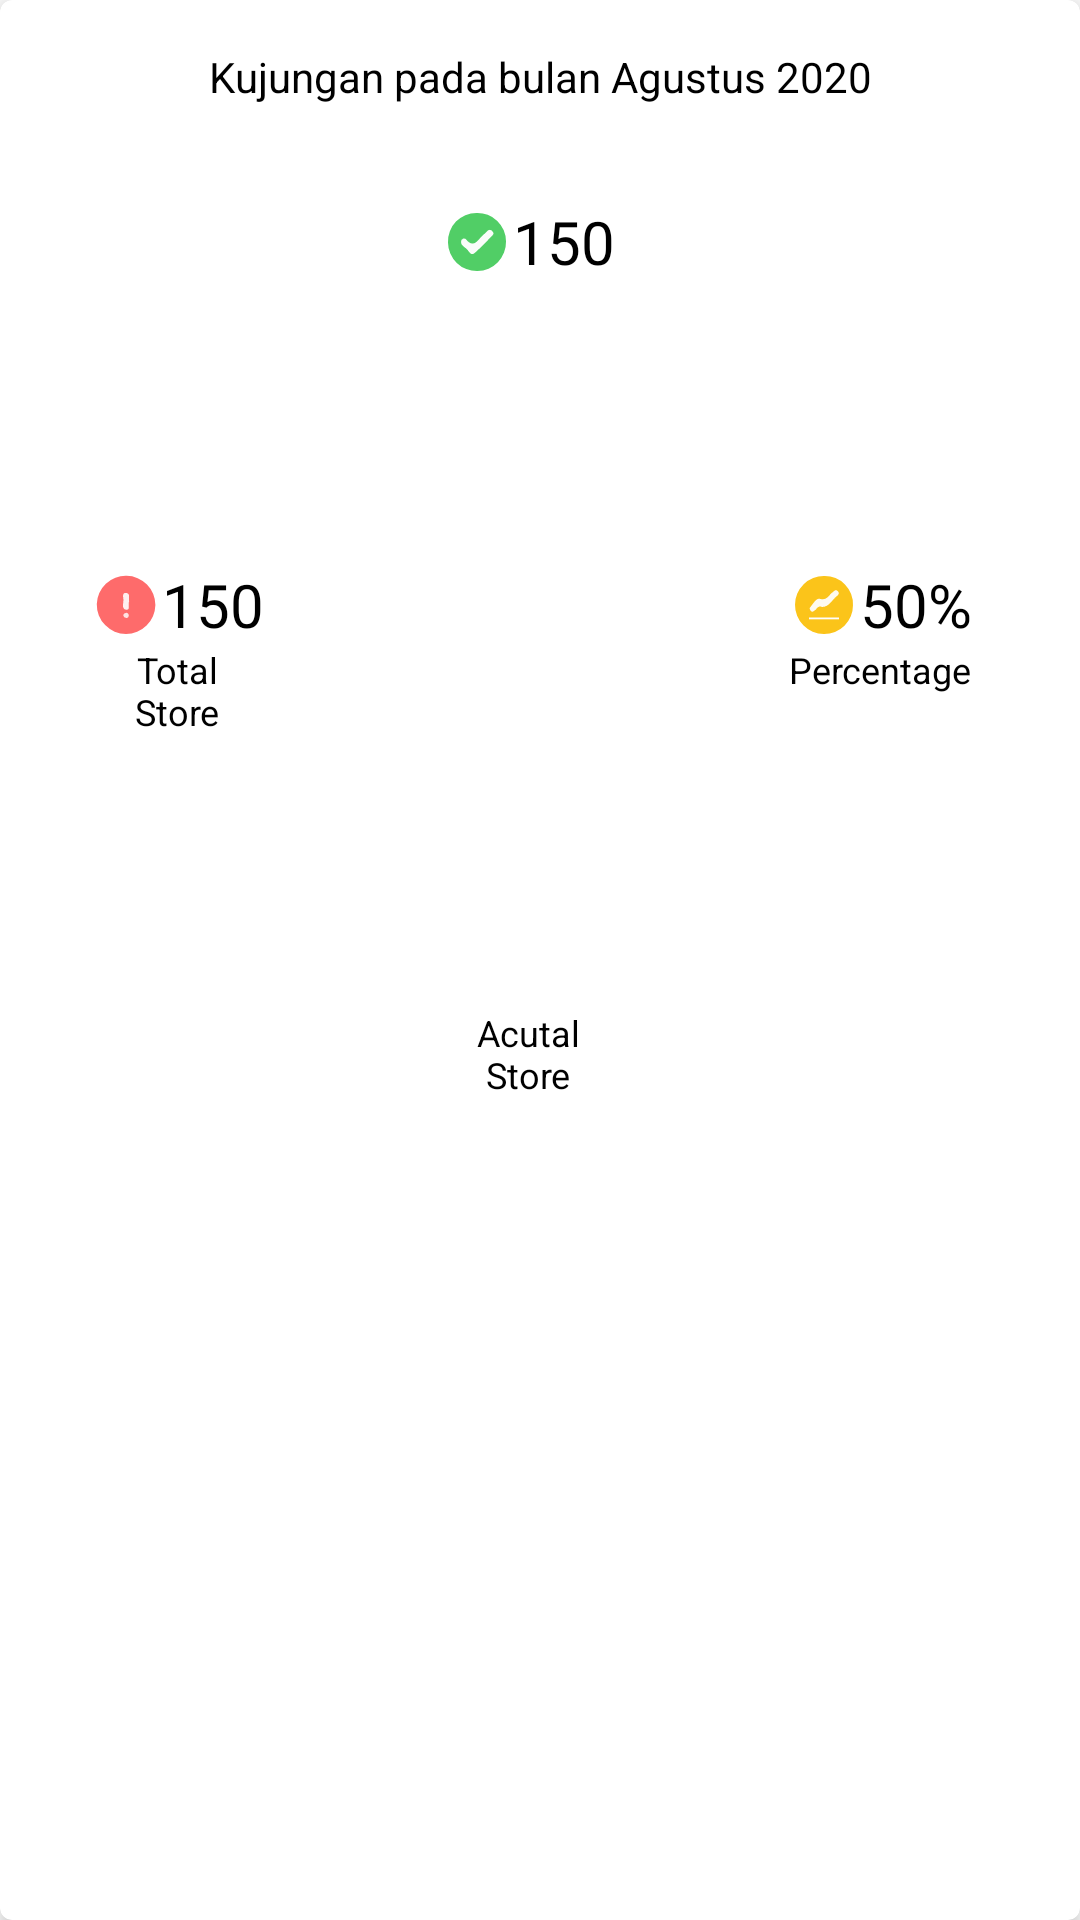

Named icons in this screenshot (1080x1920) and their centers, (x,y):
done: (477,242)
graph: (824,605)
warning: (126,604)
